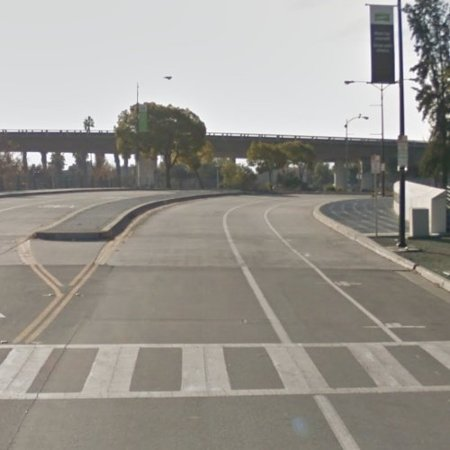自行車: (165, 179, 350, 306)
